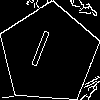I: (24, 29, 54, 77)
